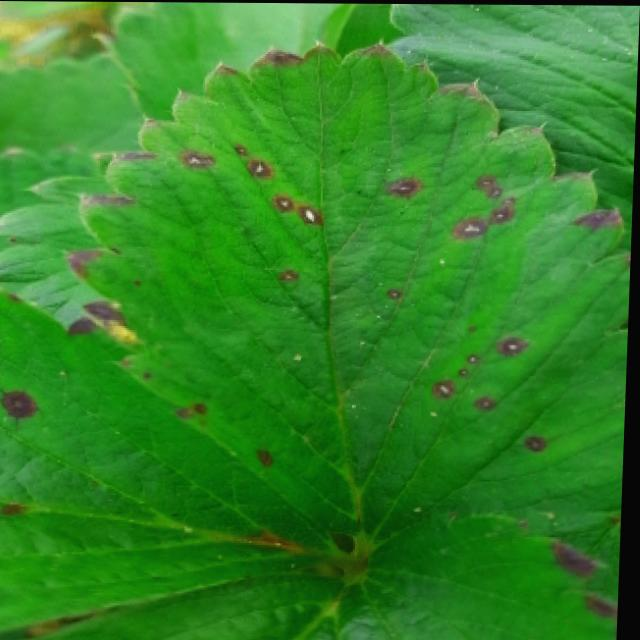Leaf Spot: (61, 35, 633, 557), (0, 285, 360, 632)
